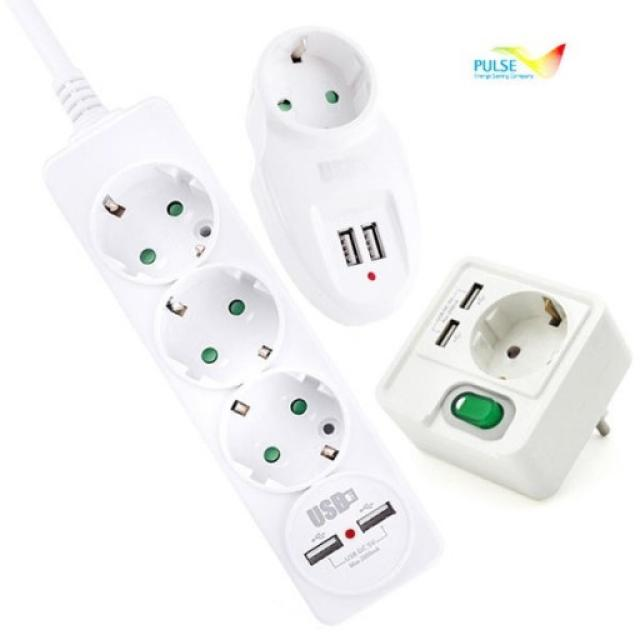typeb: (30, 165, 371, 568), (442, 264, 614, 454), (230, 12, 416, 172)
